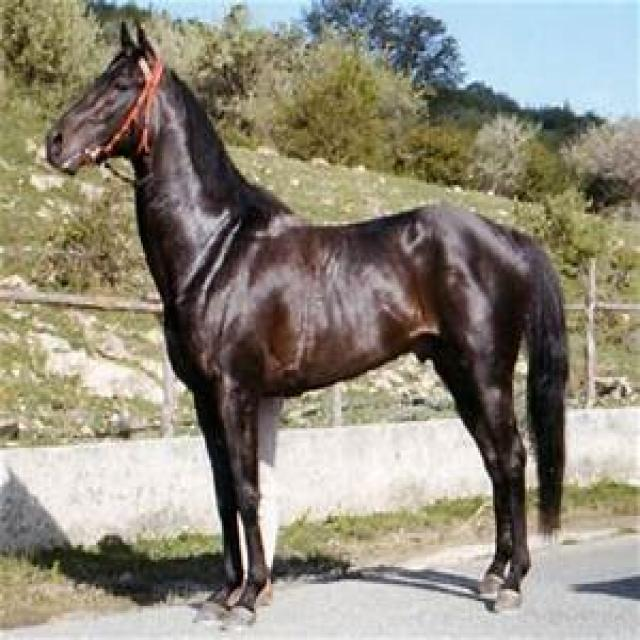horse: (41, 27, 567, 625)
